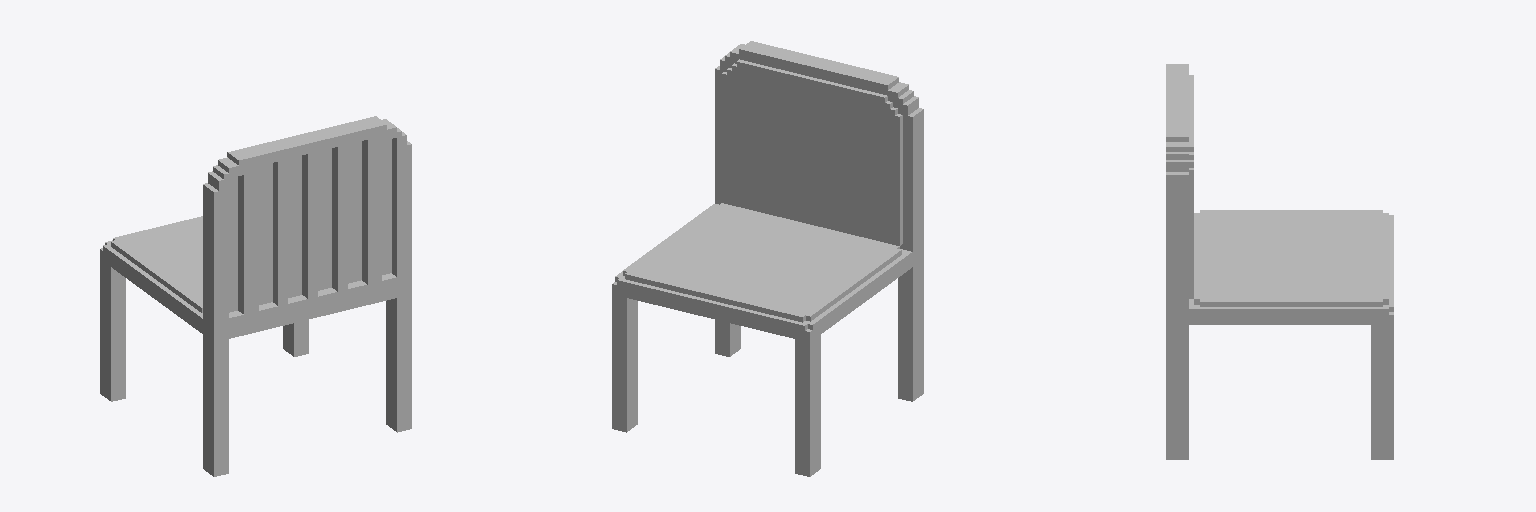
File: chair.obj
3 views of the same model, side by side, from view 1: azimuth 30°, elevation 25°; view 2: azimuth 150°, elevation 25°; view 3: azimuth 270°, elevation 25° (orthographic).
Parts seen in each view (by area): view 1: object 1; view 2: object 1; view 3: object 1.
Boxes of the visible parts, <box> form: object 1: <box>100,116,411,476</box>; object 1: <box>612,41,923,476</box>; object 1: <box>1166,64,1393,459</box>.
Size of the model in its own units: 4 by 6 by 4.